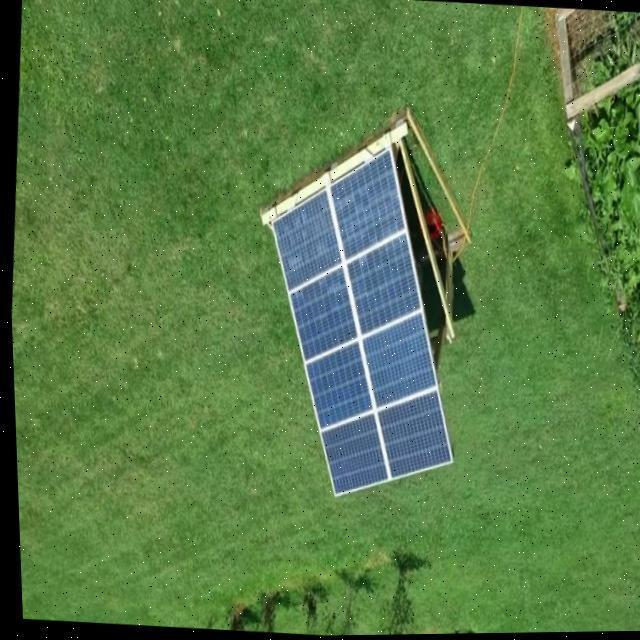Normal Solar Panel: (249, 135, 474, 503)
